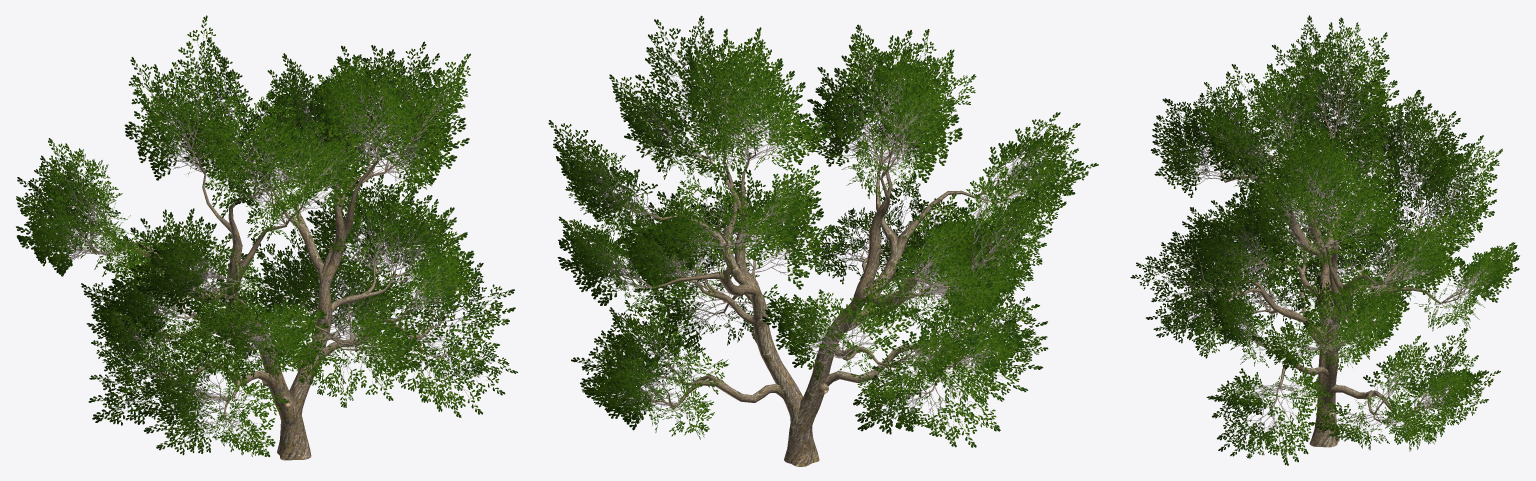
File: Oaktwenty.obj
The picture shows the model from 3 angles, left to right: view 1: azimuth 30°, elevation 25°; view 2: azimuth 150°, elevation 25°; view 3: azimuth 270°, elevation 25°; orthographic projection. The views are drawn at different scales.
Visible parts, largest first — view 1: oak leaf, mossybark02; view 2: oak leaf, mossybark02; view 3: oak leaf, mossybark02.
Boxes of the visible parts, <box> form: oak leaf: <box>16,15,517,457</box>; mossybark02: <box>63,82,454,460</box>; oak leaf: <box>548,15,1098,447</box>; mossybark02: <box>603,93,1027,466</box>; oak leaf: <box>1130,15,1519,465</box>; mossybark02: <box>1187,66,1471,447</box>.
Bounding box in the file's own units: 1042 × 972 × 884.
Materials: 3 (3 with a texture image).
